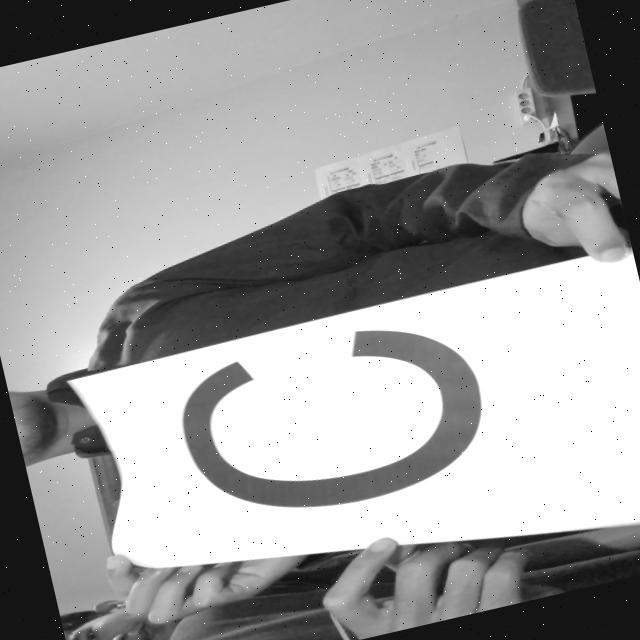c: (134, 292, 552, 548)
